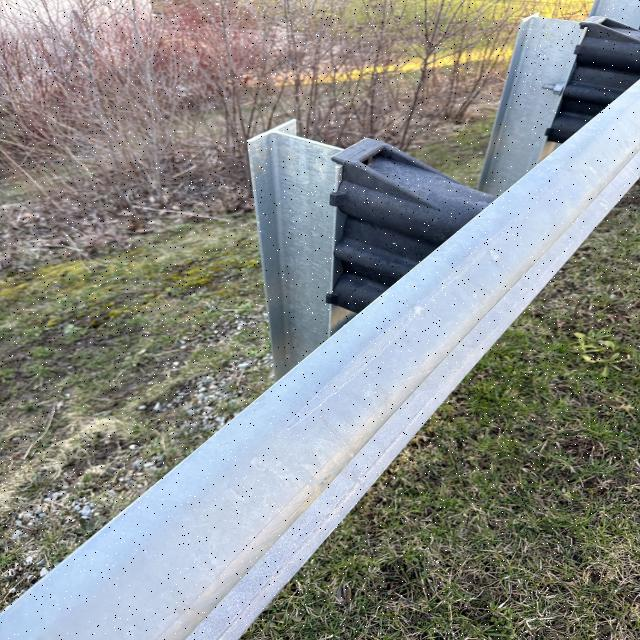Guard rail: (32, 67, 640, 614)
